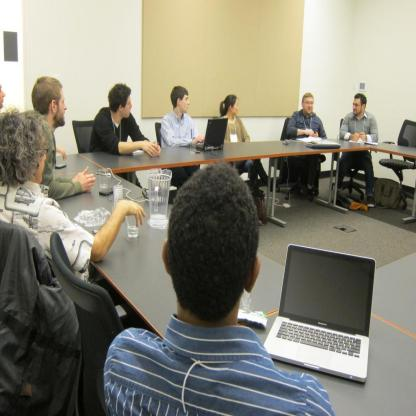board: (263, 243, 376, 384), (189, 118, 229, 152)
